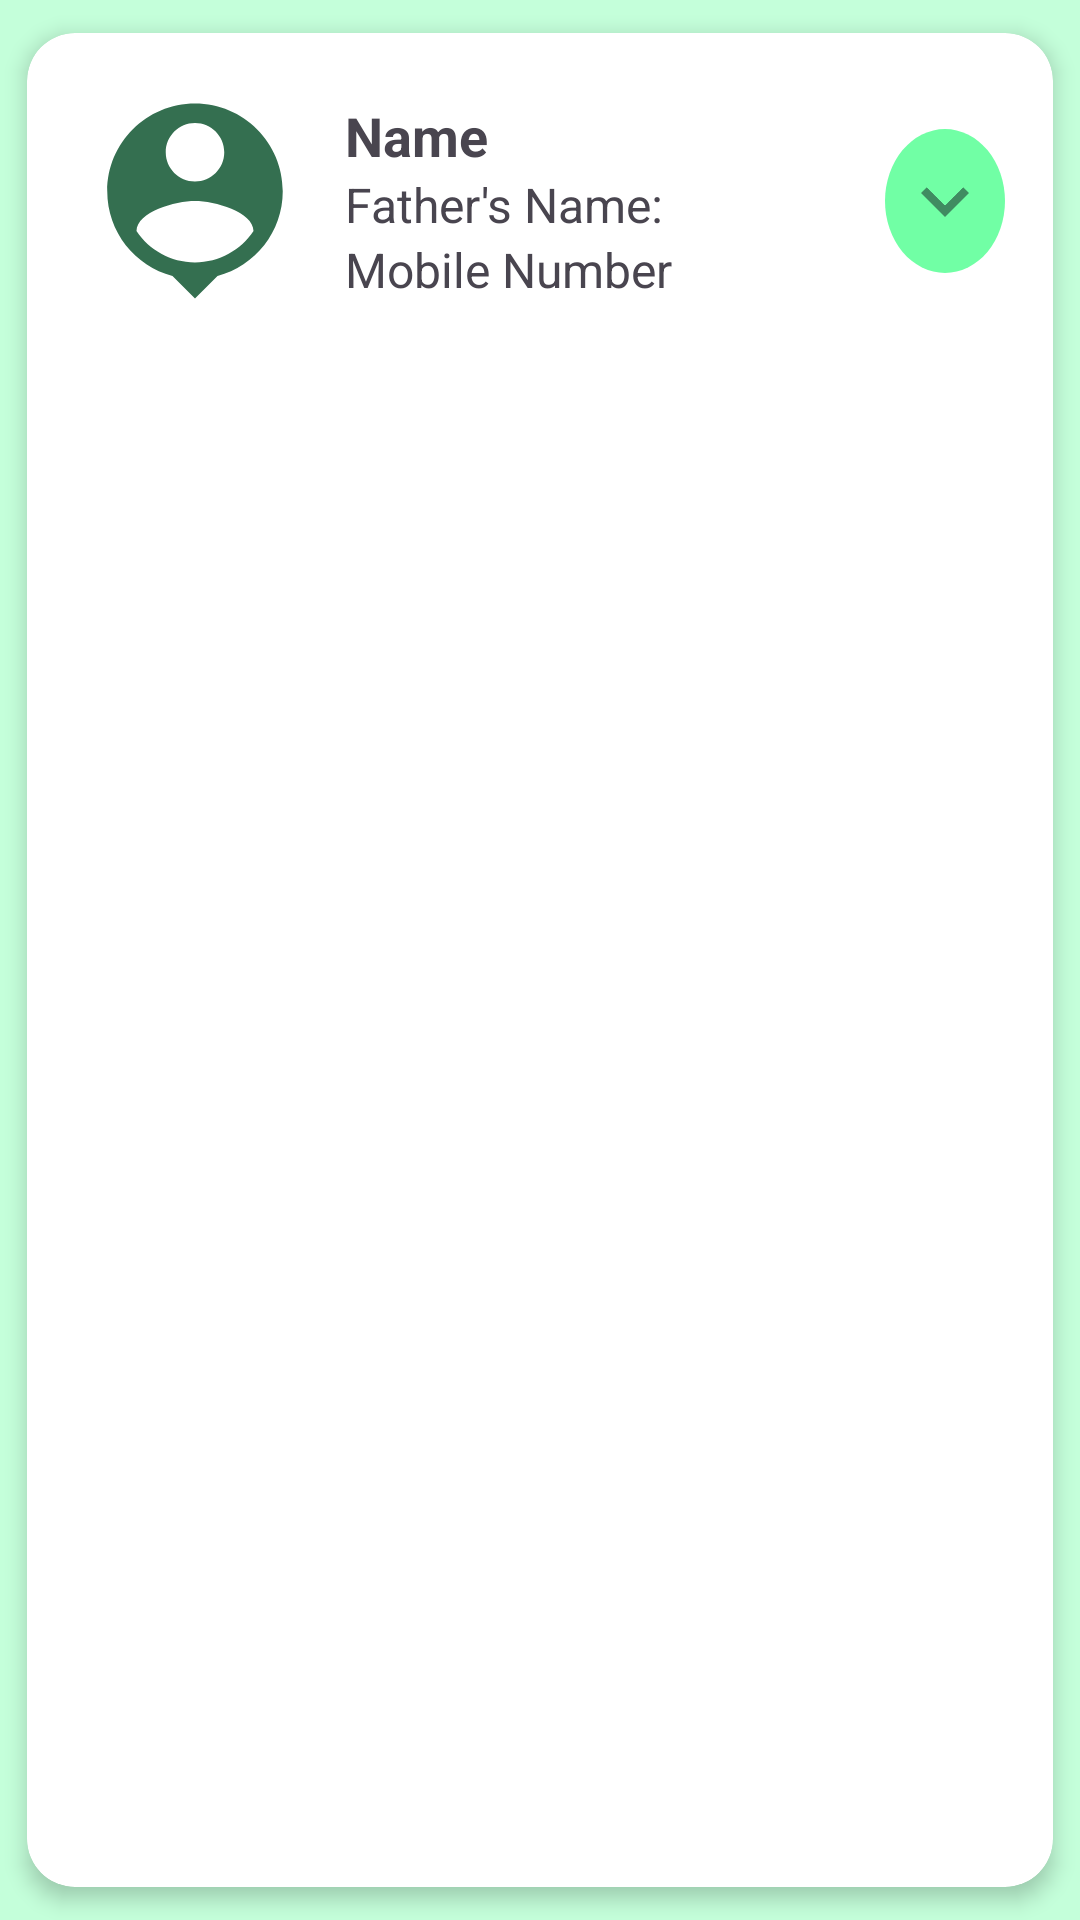

Icons on this 1080 × 1920 Android screen, each with the point to tap as (x=x, y=y):
more: (x=945, y=201)
person: (x=195, y=201)
